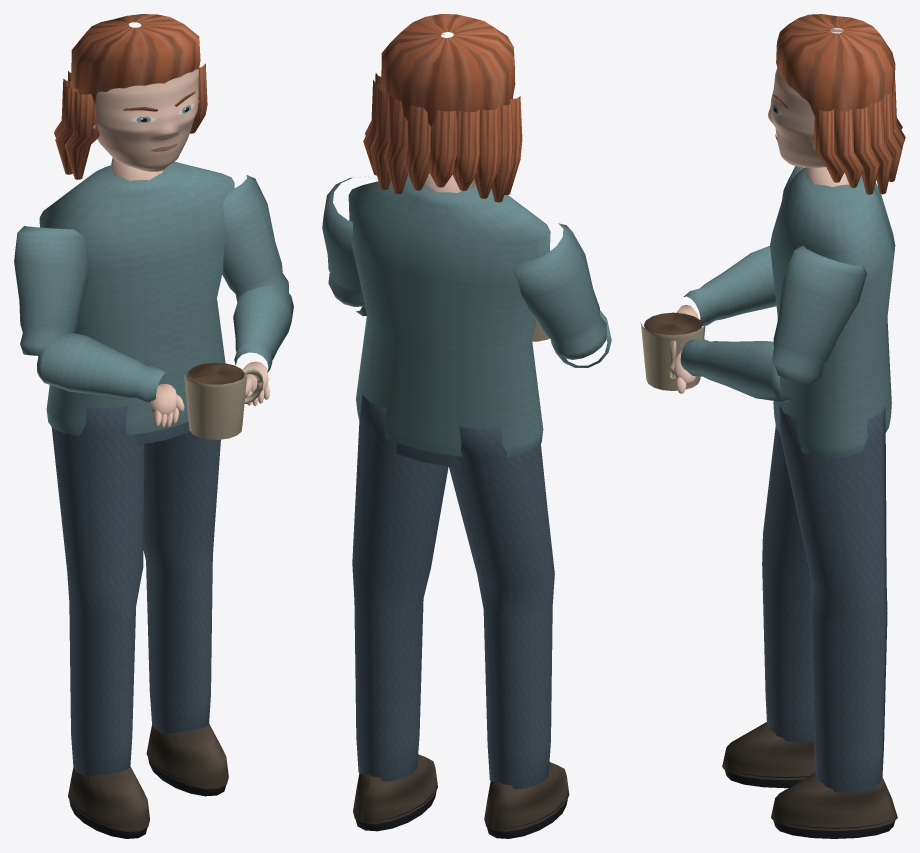
Rendered from HERO-09_inna-standing.glb.
3 renders of one model, left to right at view 1: azimuth 30°, elevation 25°; view 2: azimuth 150°, elevation 25°; view 3: azimuth 270°, elevation 25°, orthographic. The views are drawn at different scales.
Visible parts, largest first — view 1: inna · soles; view 2: inna · soles; view 3: inna · soles.
Boxes of the visible parts, left/top/right/bottom form: inna · soles: left=14, top=14, right=293, bottom=838; inna · soles: left=322, top=14, right=611, bottom=838; inna · soles: left=640, top=14, right=905, bottom=838.
Size of the model in its own units: 0.5972 by 1.66 by 0.5183.
2 materials, 2 textured.
